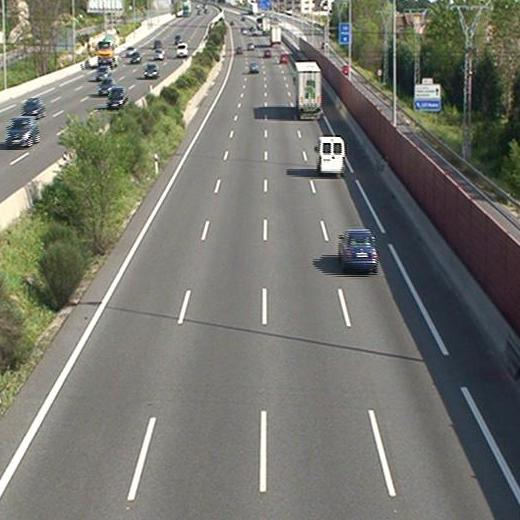car: (340, 229, 376, 271), (248, 62, 258, 74), (277, 54, 286, 63)
truck: (294, 63, 321, 119)
van: (316, 137, 344, 174)
